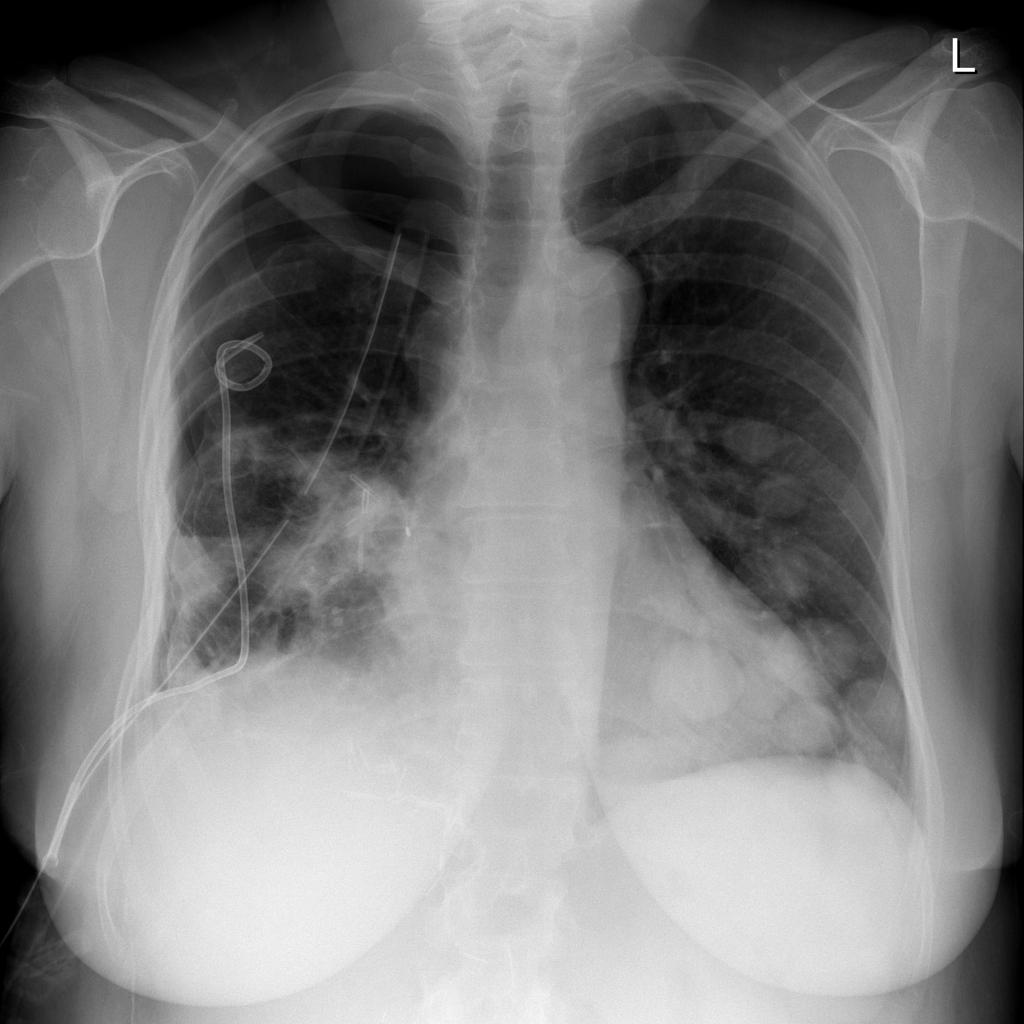nodule: (635, 624, 748, 733), (840, 668, 915, 749), (760, 696, 844, 768), (793, 612, 869, 690), (718, 397, 793, 472), (742, 460, 821, 529), (747, 544, 824, 612)
